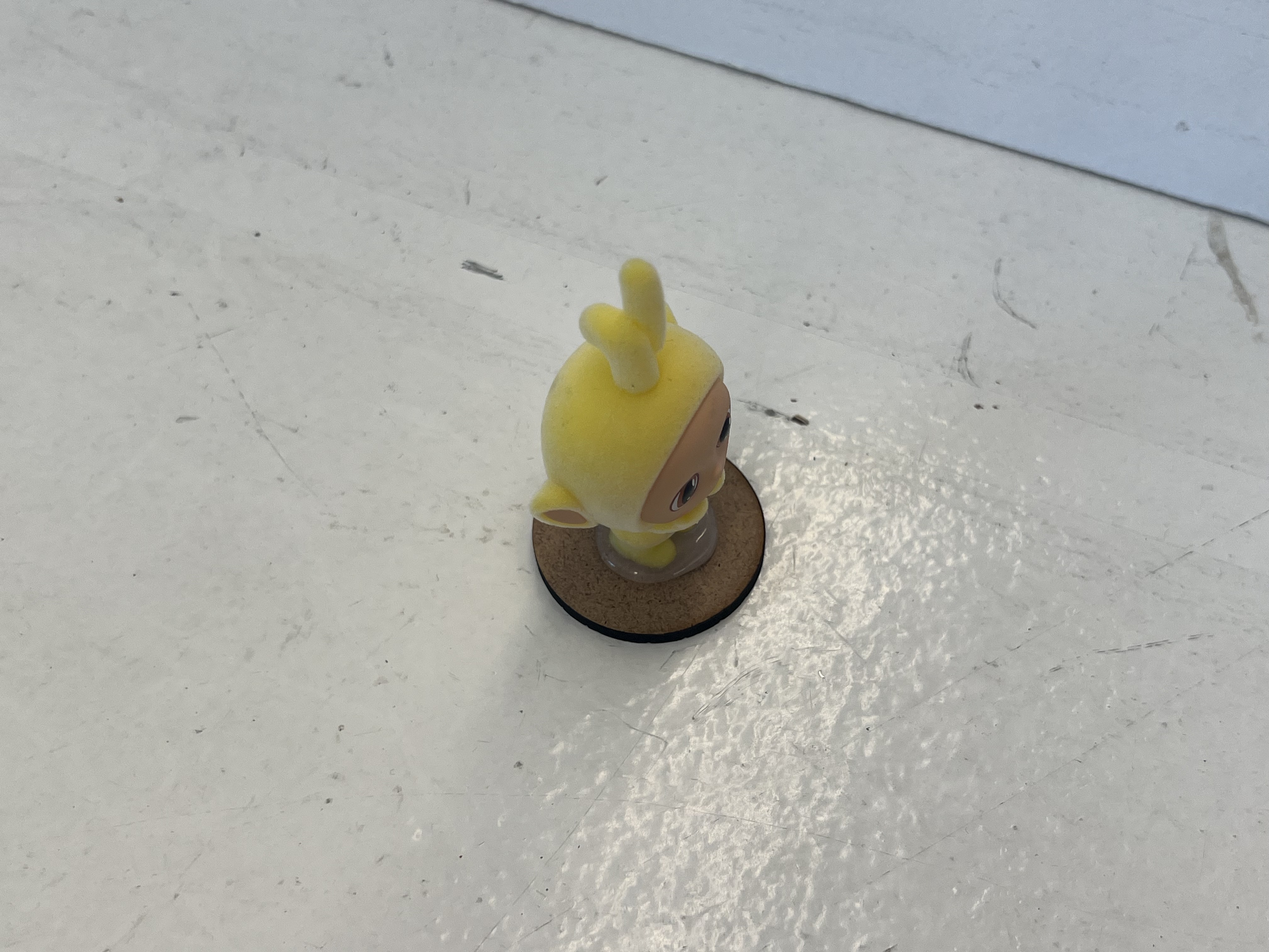teletubby: (531, 259, 731, 569)
